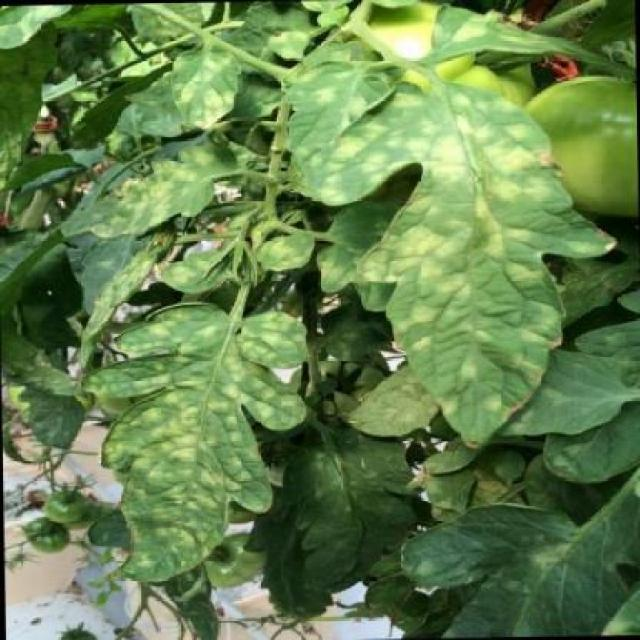Leaf Mold: (328, 82, 575, 446), (78, 299, 310, 586), (85, 140, 246, 238), (282, 51, 400, 152), (429, 0, 582, 65), (343, 348, 448, 440), (166, 46, 239, 137), (251, 232, 320, 277), (156, 249, 222, 294)
